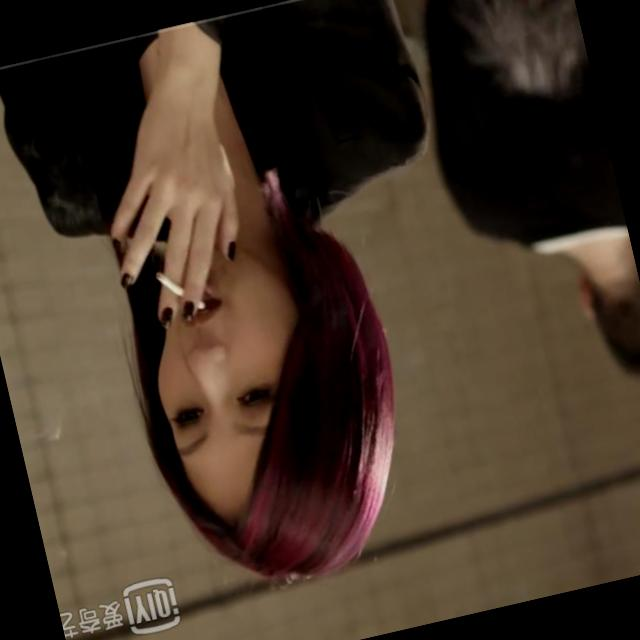smoke: (148, 260, 186, 306)
